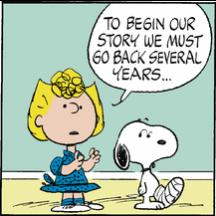snoopy: (112, 116, 186, 210)
